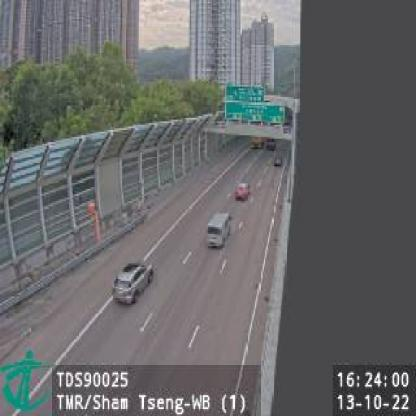Car: (113, 260, 156, 304), (204, 211, 232, 249), (235, 180, 252, 200), (274, 156, 284, 166)
